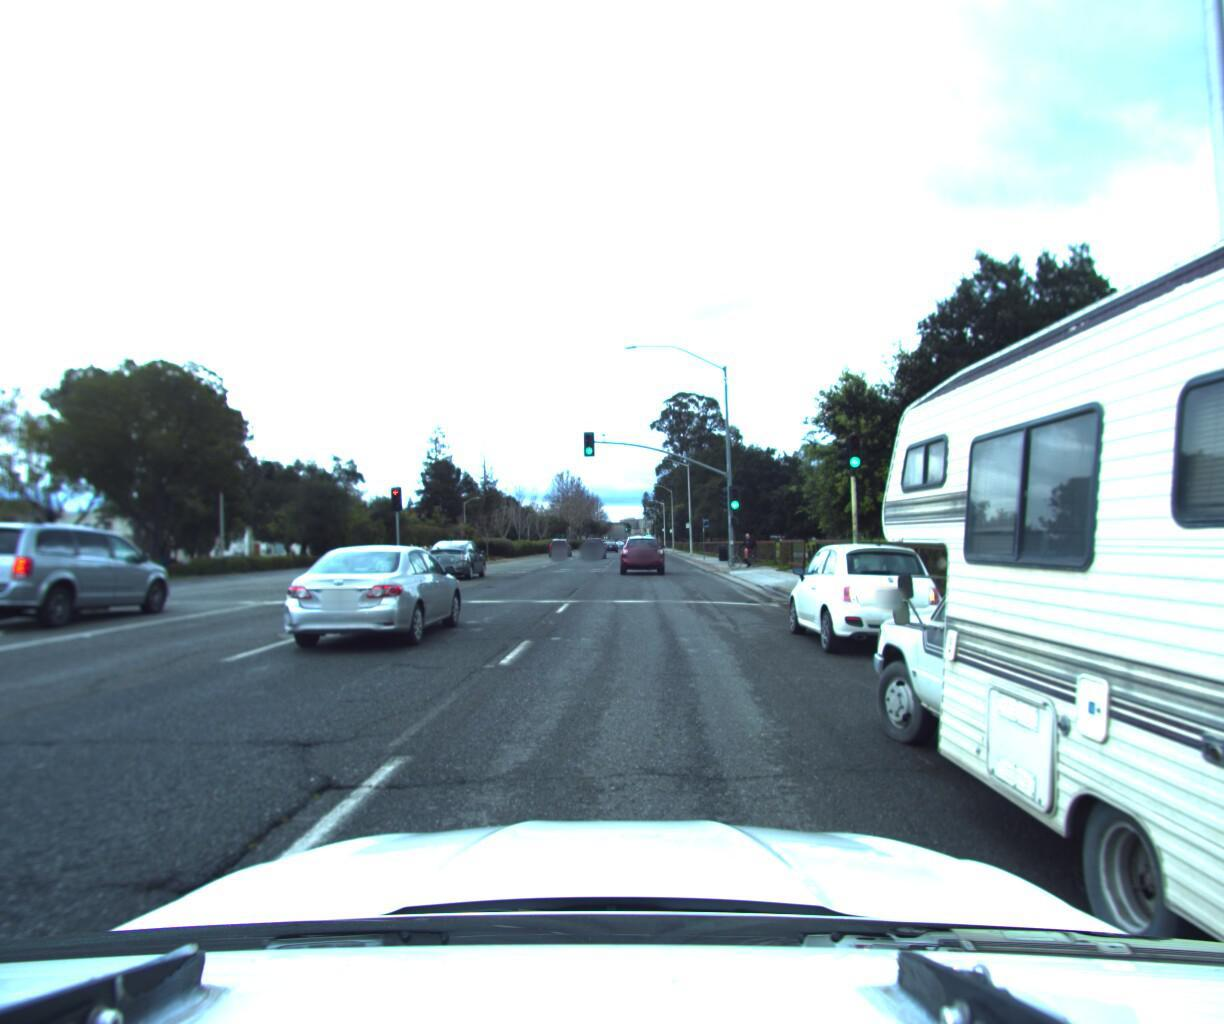bicycle: (727, 526, 764, 565)
car: (272, 543, 472, 659), (779, 534, 962, 660), (0, 525, 190, 639), (417, 533, 494, 580), (616, 534, 663, 574), (579, 534, 606, 555), (546, 531, 572, 550)
other_vehicle: (829, 0, 1224, 1024)
